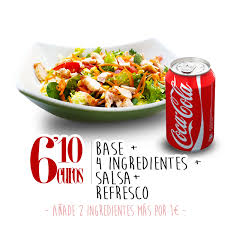coke: (162, 58, 218, 153)
